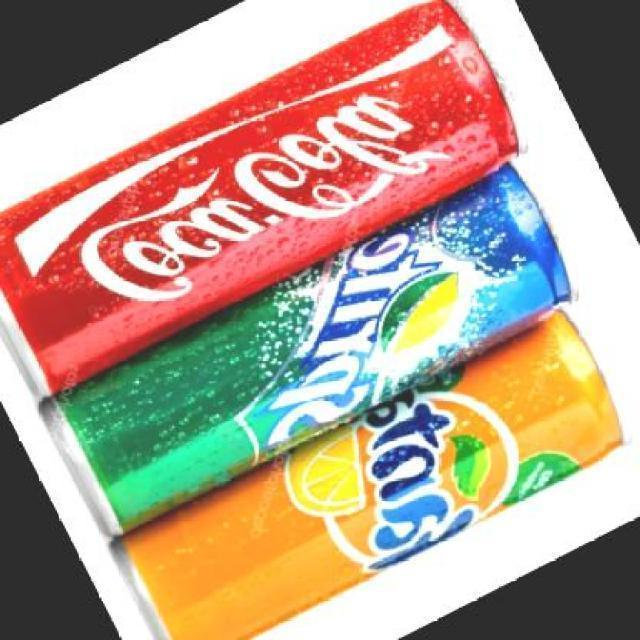metal: (0, 0, 546, 406), (28, 153, 597, 539), (98, 294, 640, 640)
